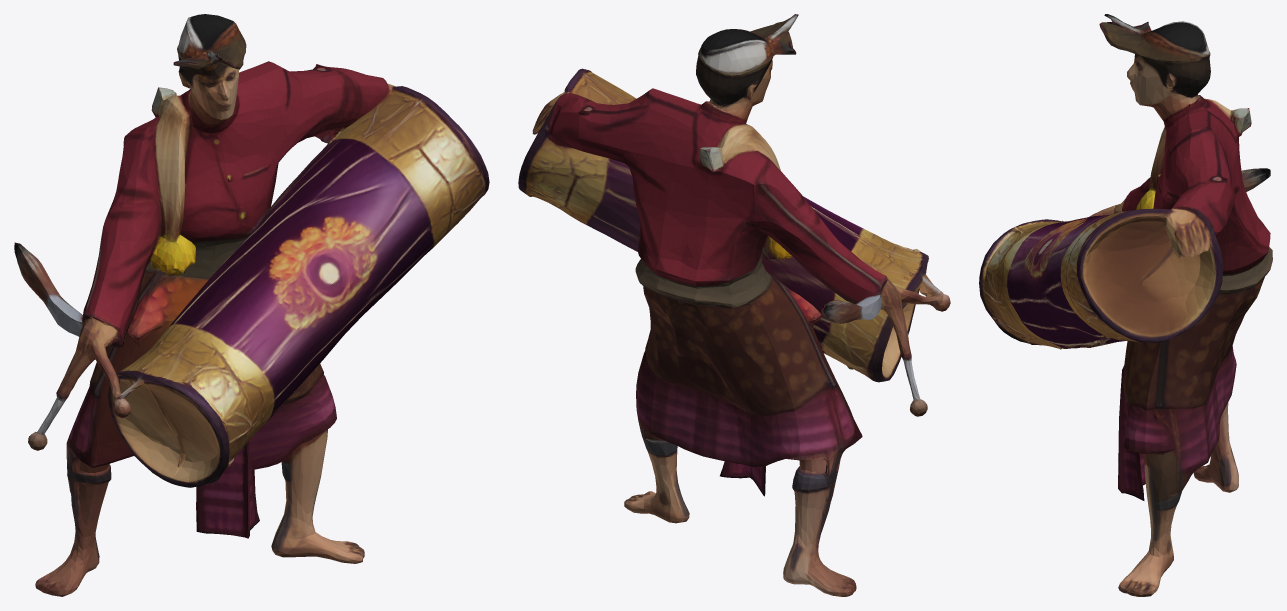
File: Gendang Beleq.glb
3 renders of one model, left to right at view 1: azimuth 30°, elevation 25°; view 2: azimuth 150°, elevation 25°; view 3: azimuth 270°, elevation 25°, orthographic. The views are drawn at different scales.
Visible parts, largest first — view 1: world; view 2: world; view 3: world.
Part boxes in pixels (box(x1,y1,x2,y2)): world: box(14, 14, 489, 596); world: box(518, 14, 950, 596); world: box(979, 14, 1272, 596).
Bounding box in the file's own units: 0.7521 × 0.9149 × 0.4763.
Materials: 1 (1 with a texture image).
